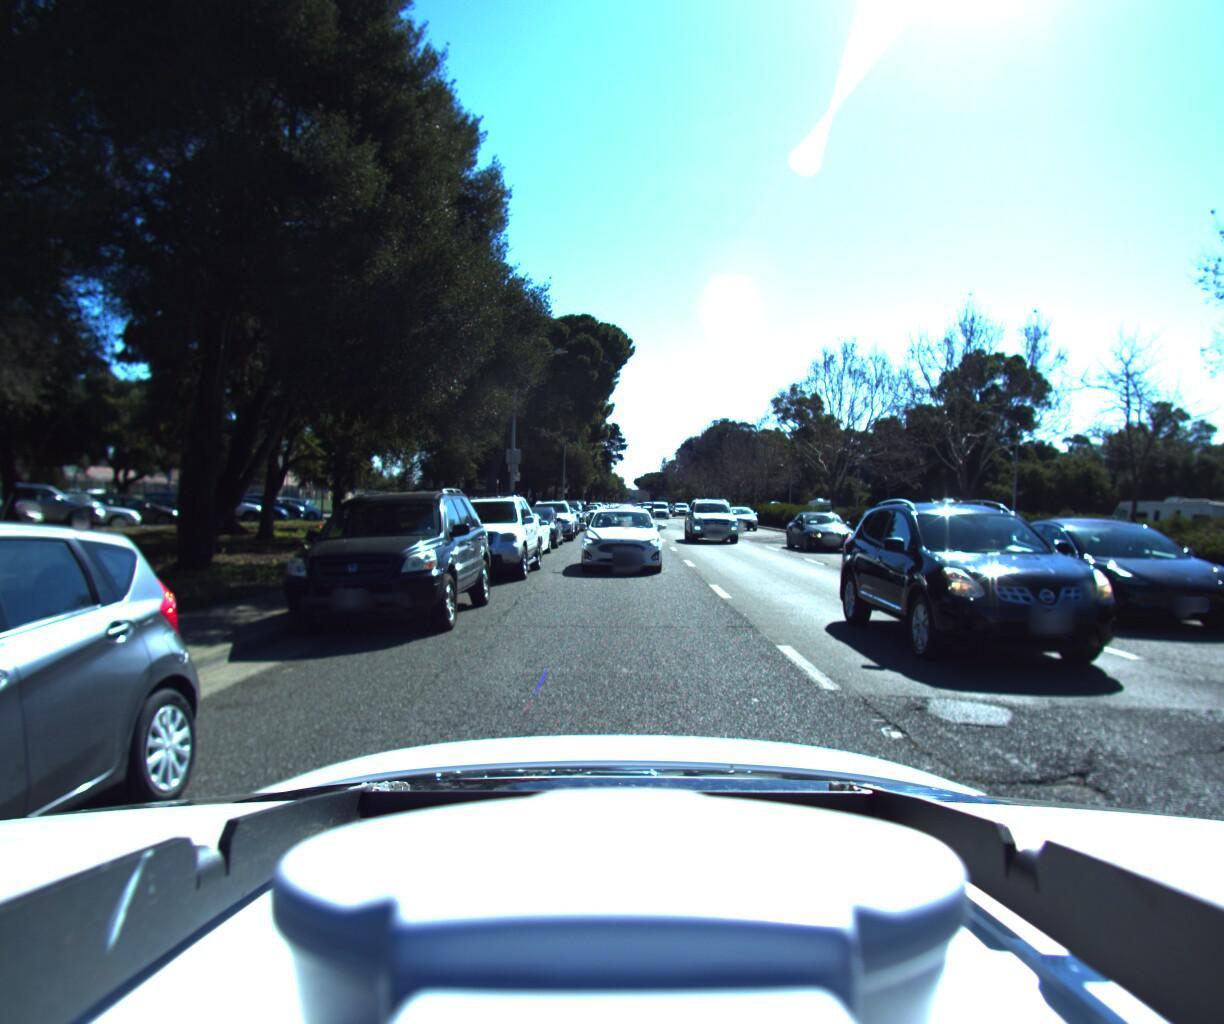car: (856, 487, 1224, 716), (253, 474, 497, 648), (999, 523, 1224, 653), (414, 484, 537, 586), (574, 502, 664, 576), (786, 511, 874, 557), (476, 507, 548, 561), (683, 496, 750, 548), (501, 502, 560, 549), (522, 496, 570, 542), (723, 506, 764, 533), (648, 501, 670, 520), (577, 502, 598, 519)
other_vehicle: (1099, 493, 1224, 573), (910, 493, 983, 539)
